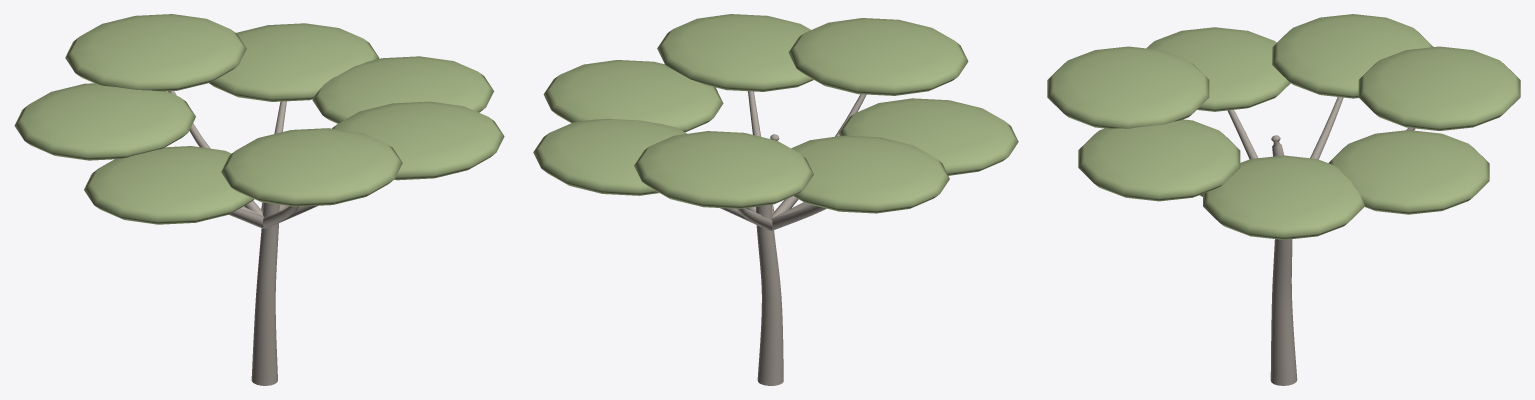
The model's file is savanna-wildlife-umbrella-acacia-bd1adeec__6559.glb.
3 renders of one model, left to right at view 1: azimuth 30°, elevation 25°; view 2: azimuth 150°, elevation 25°; view 3: azimuth 270°, elevation 25°, orthographic.
Visible parts, largest first — view 1: umbrella-acacia; view 2: umbrella-acacia; view 3: umbrella-acacia.
Boxes of the visible parts, x1,y1,x2,y2 form: umbrella-acacia: [14, 14, 504, 385]; umbrella-acacia: [533, 14, 1018, 385]; umbrella-acacia: [1047, 14, 1520, 385].
Bounding box in the file's own units: 7.36 × 4.85 × 7.12.
